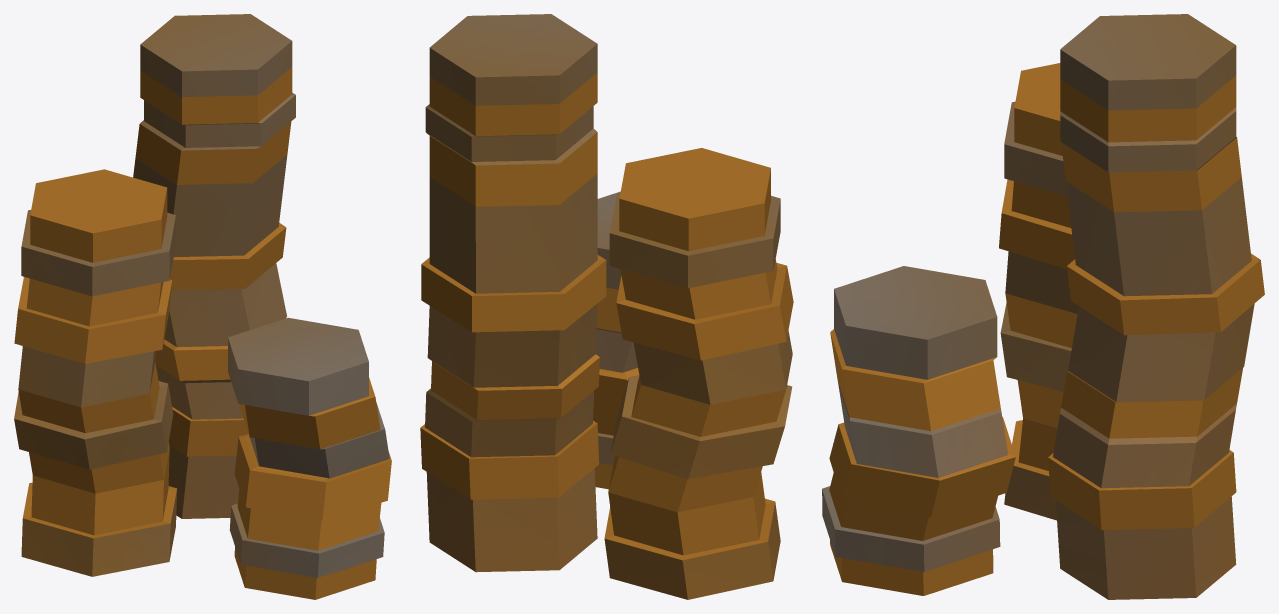
The model's file is SM_Gen_Prop_Coin_Stack_02.glb.
The picture shows the model from 3 angles, left to right: view 1: azimuth 30°, elevation 25°; view 2: azimuth 150°, elevation 25°; view 3: azimuth 270°, elevation 25°; orthographic projection. The views are drawn at different scales.
Visible parts, largest first — view 1: SM_Gen_Prop_Coin_Stack_02; view 2: SM_Gen_Prop_Coin_Stack_02; view 3: SM_Gen_Prop_Coin_Stack_02.
Boxes of the visible parts, box(x1,y1,x2,y2) form: SM_Gen_Prop_Coin_Stack_02: box(14, 14, 391, 599); SM_Gen_Prop_Coin_Stack_02: box(420, 14, 793, 599); SM_Gen_Prop_Coin_Stack_02: box(822, 14, 1264, 599).
Bounding box in the file's own units: 0.299 × 0.4289 × 0.3307.
Materials: 1 (1 with a texture image).
